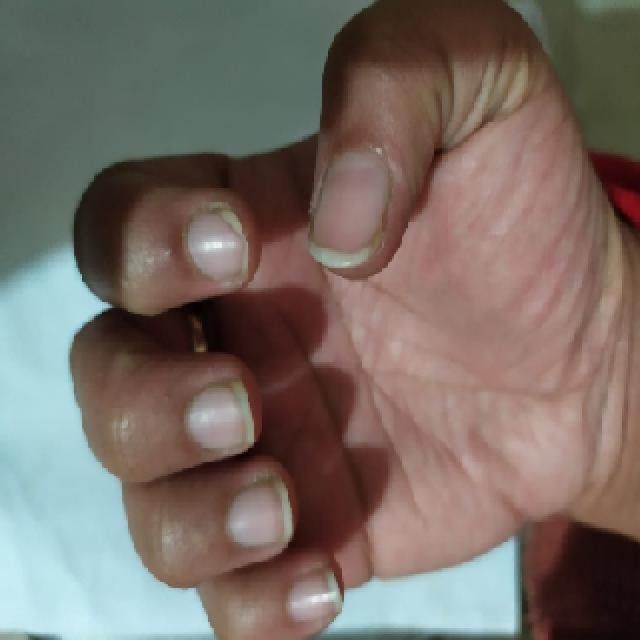Nail: (311, 149, 392, 269), (223, 476, 295, 548), (185, 380, 254, 451), (189, 202, 248, 279), (286, 569, 342, 627)
